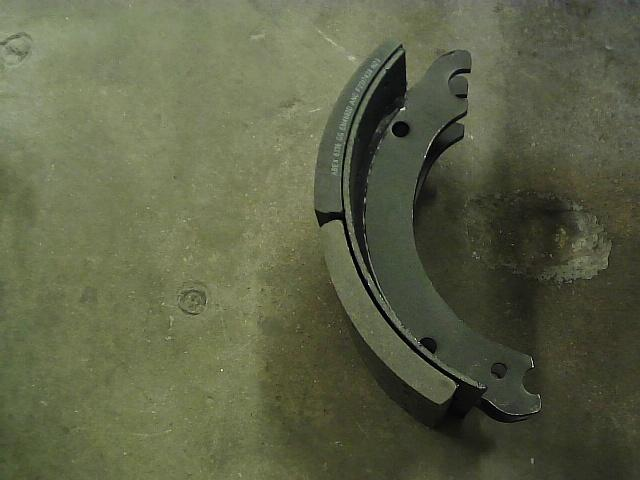brake-shoes: (312, 36, 544, 428)
